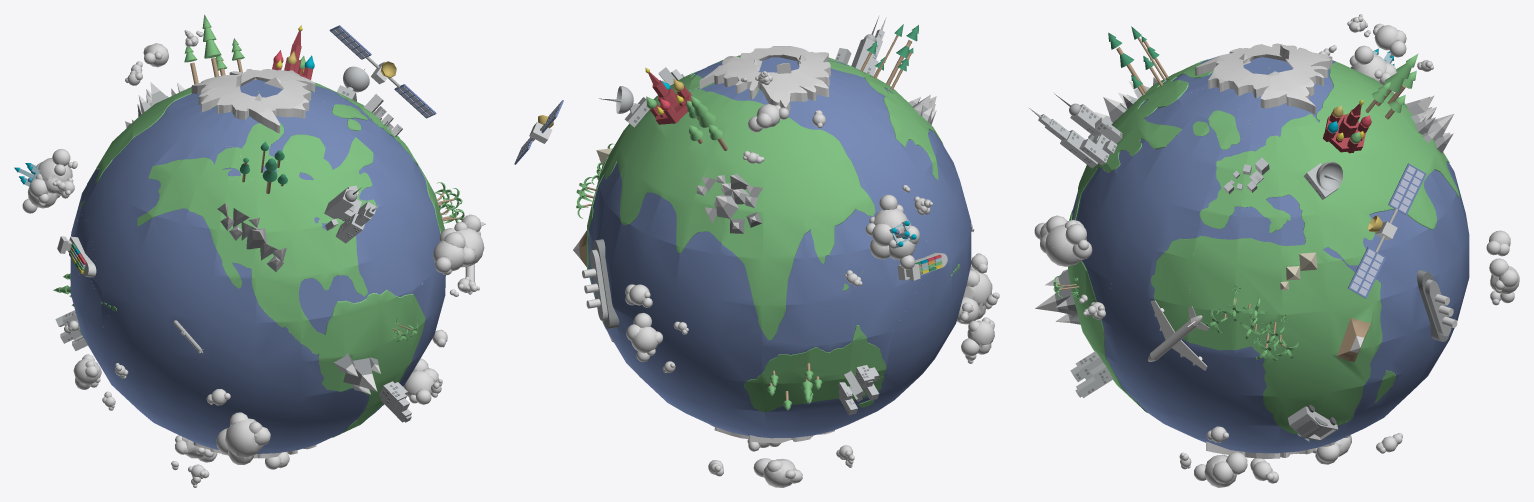
3 renders of one model, left to right at view 1: azimuth 30°, elevation 25°; view 2: azimuth 150°, elevation 25°; view 3: azimuth 270°, elevation 25°, orthographic. The views are drawn at different scales.
Parts seen in each view (by area): view 1: Mesh_Mesh_head_geo001_lambert2SG001_0; view 2: Mesh_Mesh_head_geo001_lambert2SG001_0; view 3: Mesh_Mesh_head_geo001_lambert2SG001_0.
Part boxes in pixels (bbox=[...]): Mesh_Mesh_head_geo001_lambert2SG001_0: bbox=[14, 14, 485, 487]; Mesh_Mesh_head_geo001_lambert2SG001_0: bbox=[514, 17, 999, 487]; Mesh_Mesh_head_geo001_lambert2SG001_0: bbox=[1029, 14, 1519, 487].
Size of the model in its own units: 2.35 by 2.29 by 2.28.
